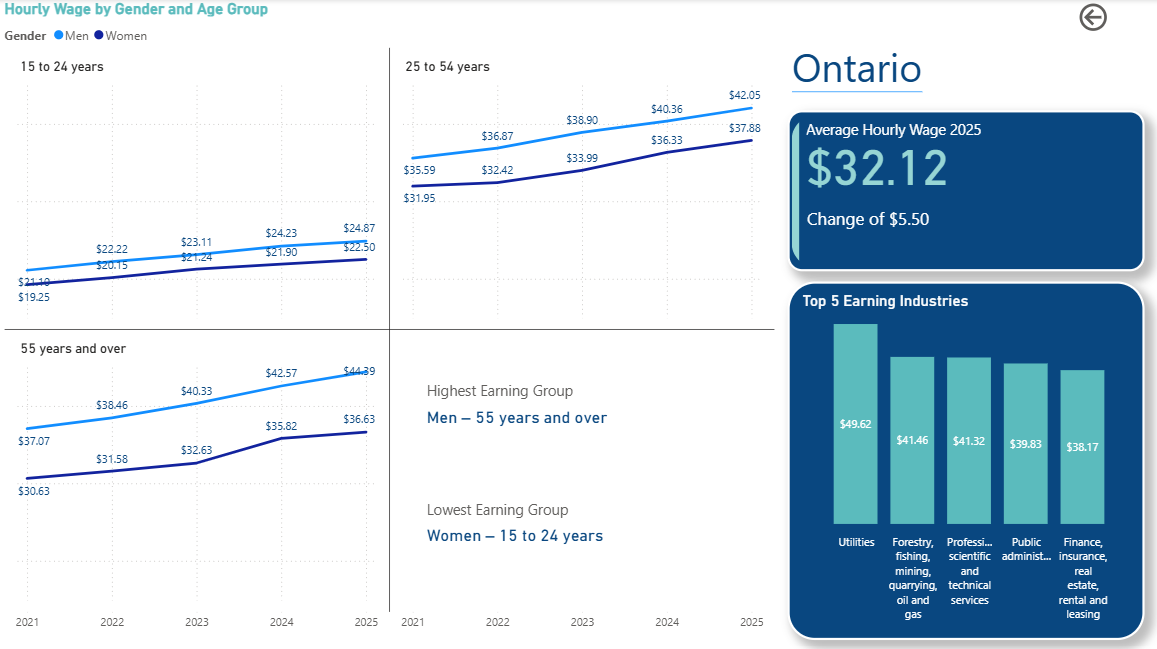

Layout of this report page (visuals, bound fields, positions):
{"tool":"powerbi","page":{"name":"Wages","canvas":[1280,720],"ordinal":4},"visuals":[{"type":"lineChart","title":"Hourly Wage by Gender and Age Group","fields":{"Category":["dim_year.Year"],"Rows":["dim_age.Age group"],"Series":["dim_gender.Gender"],"Y":["Avg(fact_province.Hourly Wage)"]},"box":[0,0,855,703.3],"z":0},{"type":"cardVisual","fields":{"Data":["fact_province.Highest Earning Group","fact_province.Lowest Earning Group"]},"box":[451.7,378.3,370,260],"z":1000},{"type":"actionButton","box":[1180,0,100,40],"z":2000},{"type":"textbox","box":[865,40,241.7,81.7],"z":3000},{"type":"cardVisual","fields":{"Data":["fact_province.Average Hourly Wage"]},"box":[865,121.7,391.7,176.7],"z":4000},{"type":"columnChart","title":"Top 5 Earning Industries","fields":{"Category":["dim_industry.NAICS"],"Y":["fact_province.Average Hourly Wage"]},"box":[865,310,391.7,393.3],"z":5000}]}

Visuals, with their boxes in screenshot pixels (x1, y1, x2, y2), scaled from the page's 1280x720 canvas onto the 1157x649 screenshot:
"Hourly Wage by Gender and Age Group" lineChart: [0, 0, 773, 634]
cardVisual - fact_province.Highest Earning Group x fact_province.Lowest Earning Group: [408, 341, 743, 575]
actionButton: [1067, 0, 1156, 36]
textbox: [782, 36, 1000, 110]
cardVisual - fact_province.Average Hourly Wage: [782, 110, 1136, 269]
"Top 5 Earning Industries" columnChart: [782, 279, 1136, 634]
